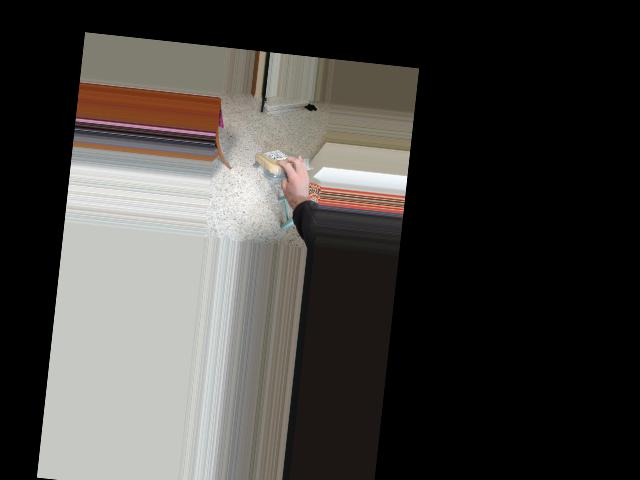cheese: (252, 148, 306, 179)
